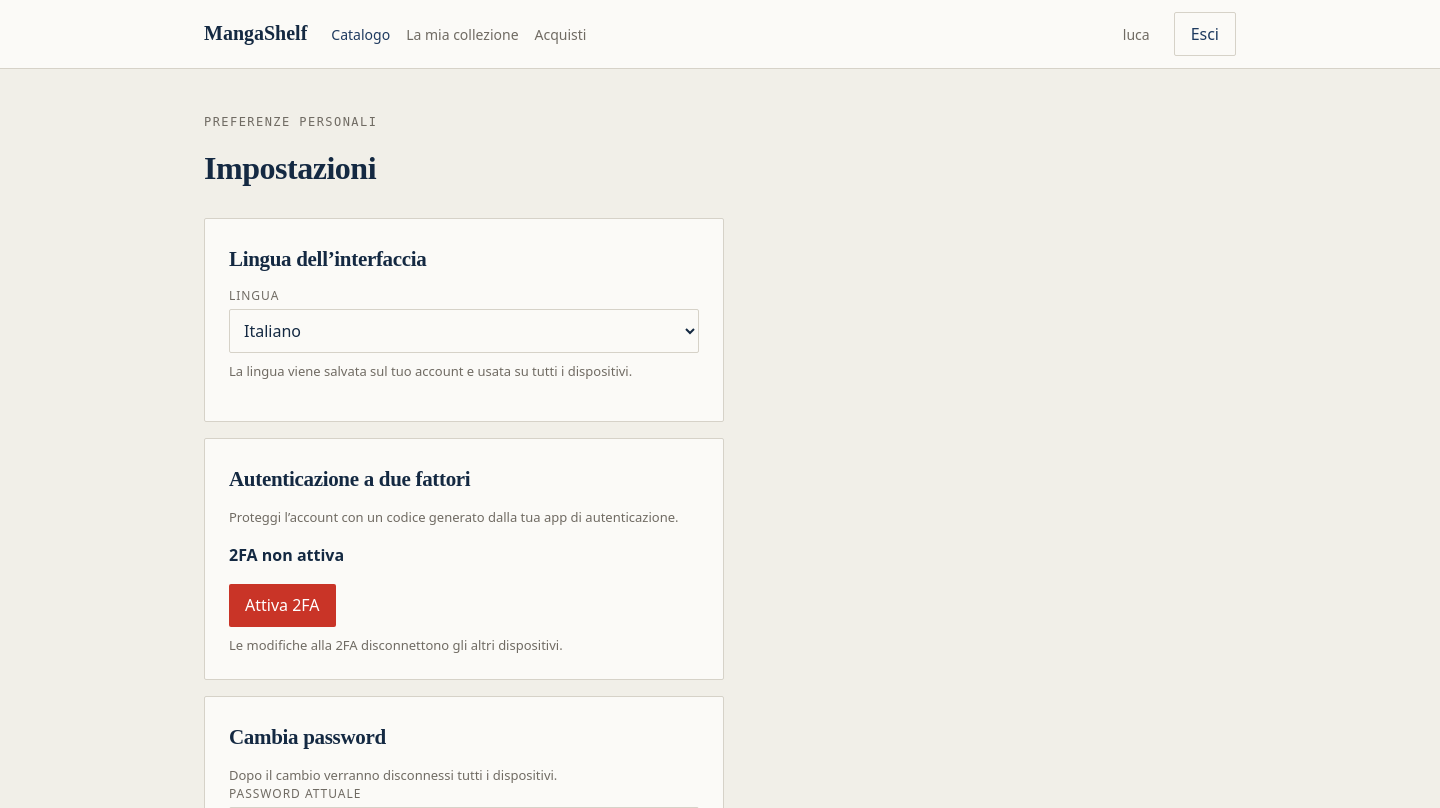
saves the language selected by the current user
The image size is (1440, 808).
Select "English" in the dropdown labelled "Lingua" at (464, 331), box [229, 309, 699, 352]
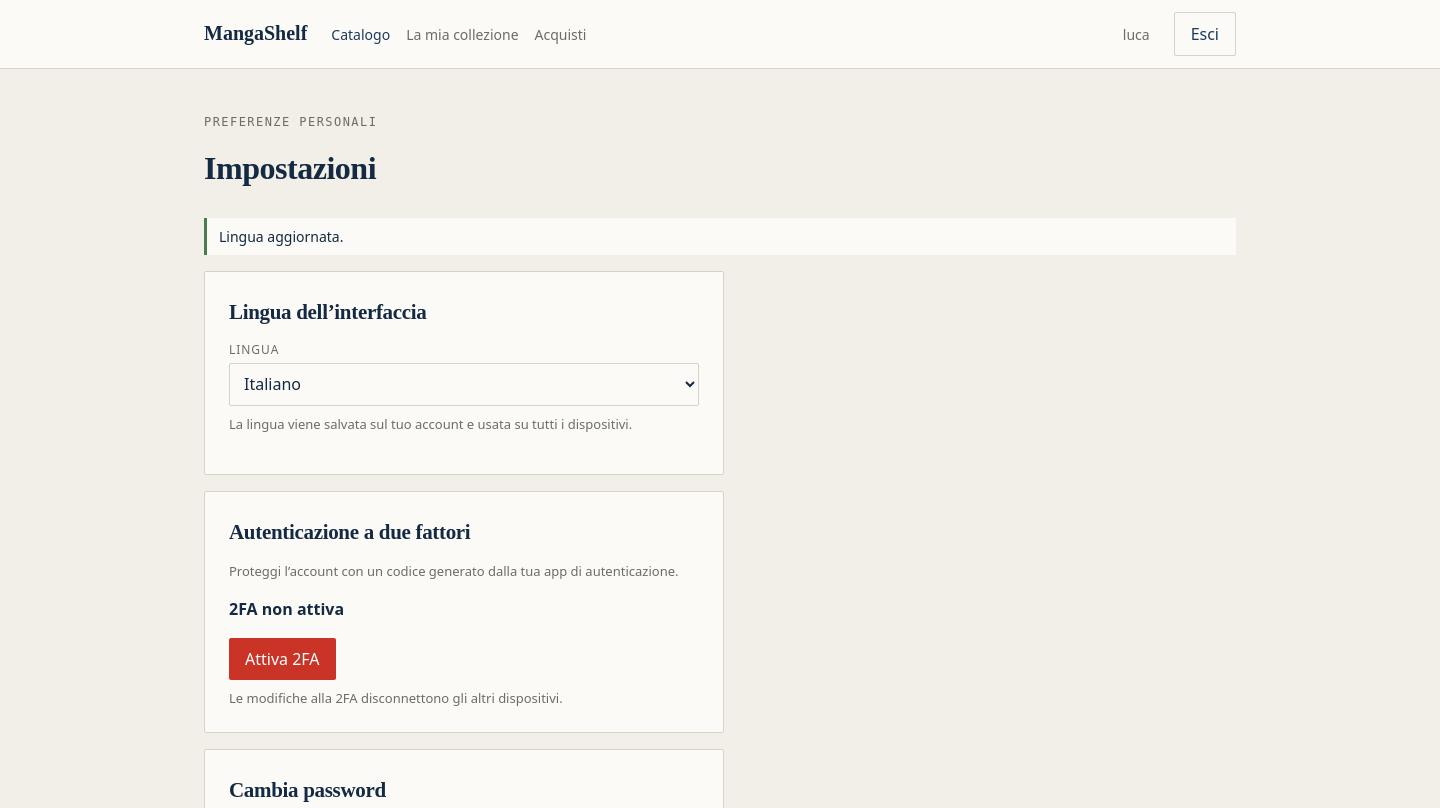
Now the text "Lingua aggiornata." is shown, box [204, 218, 1236, 255]
